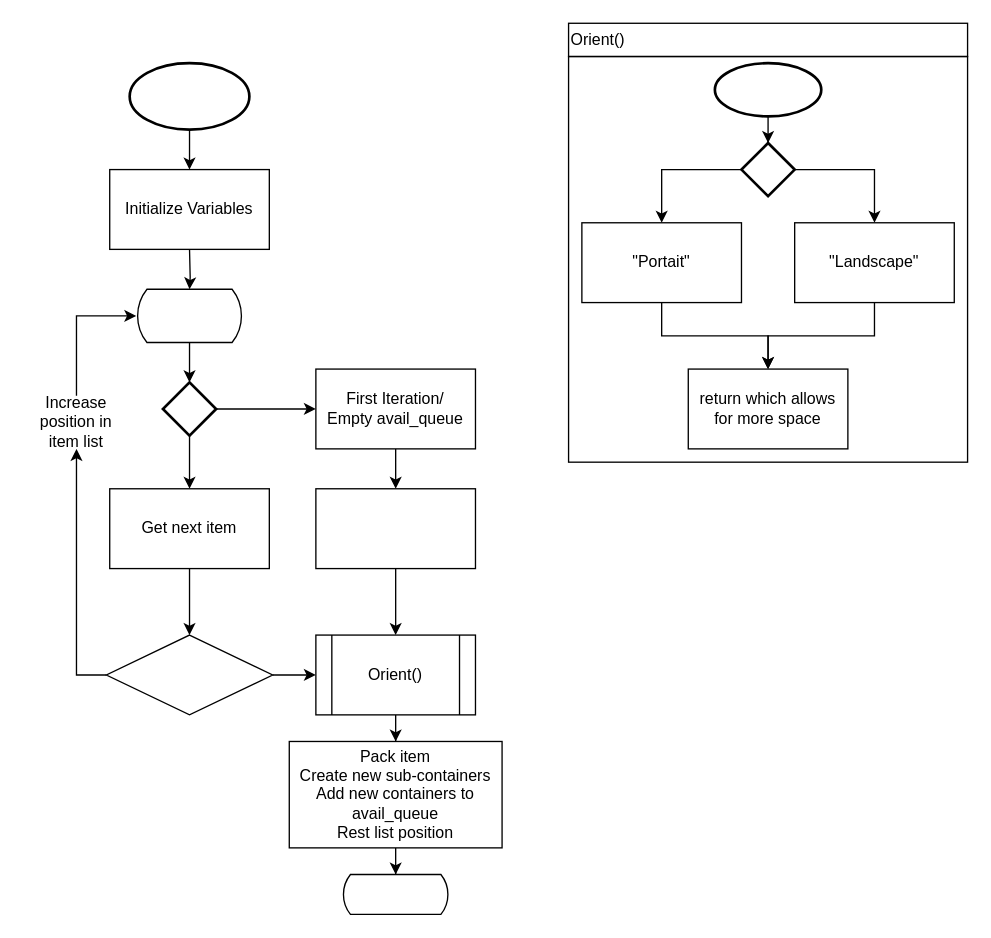
This 991x938 diagram has some shape labels left out. Each missing label, with the centre of its shape:
"Does item fit in container" goes at point (189, 674).
"Get item from top of the stack" goes at point (395, 528).
"Loop" goes at point (189, 315).
"Next Iteration" goes at point (395, 893).
"Split" goes at point (767, 169).
